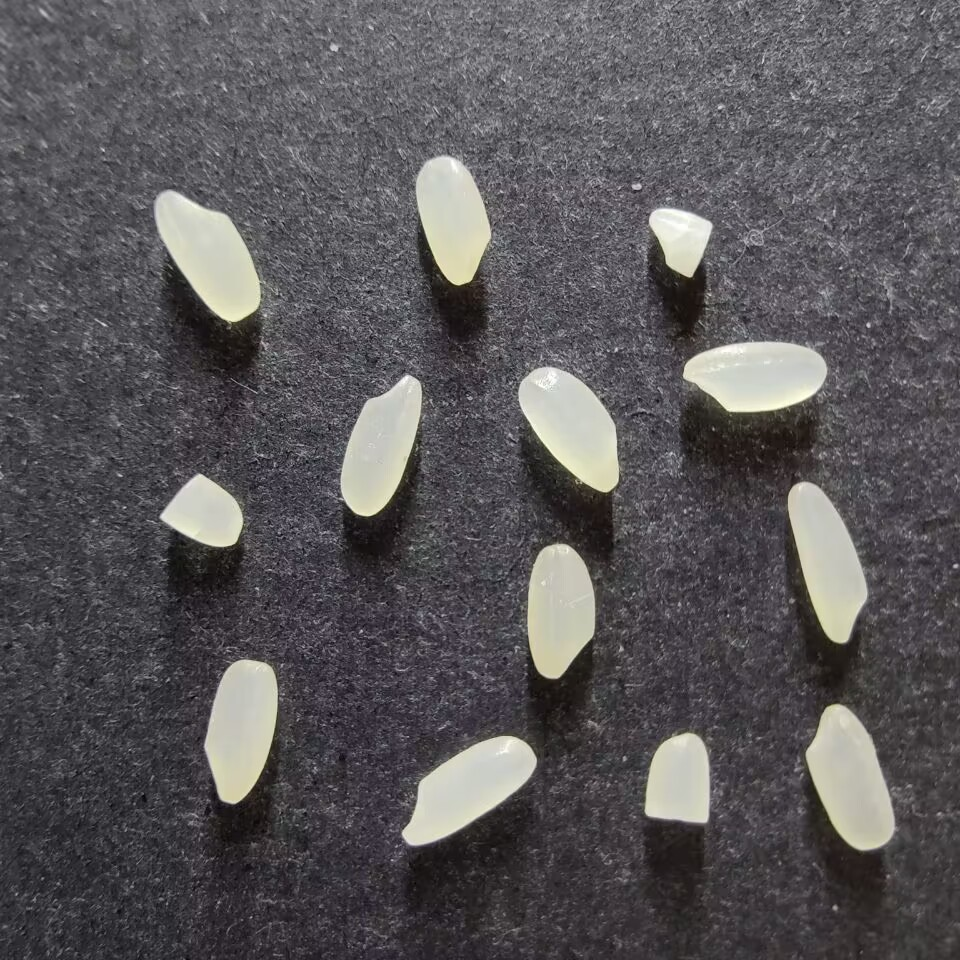broken: (159, 473, 243, 547), (644, 733, 711, 825), (648, 208, 712, 278)
rice: (400, 735, 535, 846), (153, 189, 260, 322), (805, 703, 895, 851), (786, 481, 868, 643), (517, 366, 620, 493), (339, 373, 421, 516), (203, 659, 277, 804), (682, 341, 827, 412), (415, 155, 491, 285), (526, 543, 595, 679)
